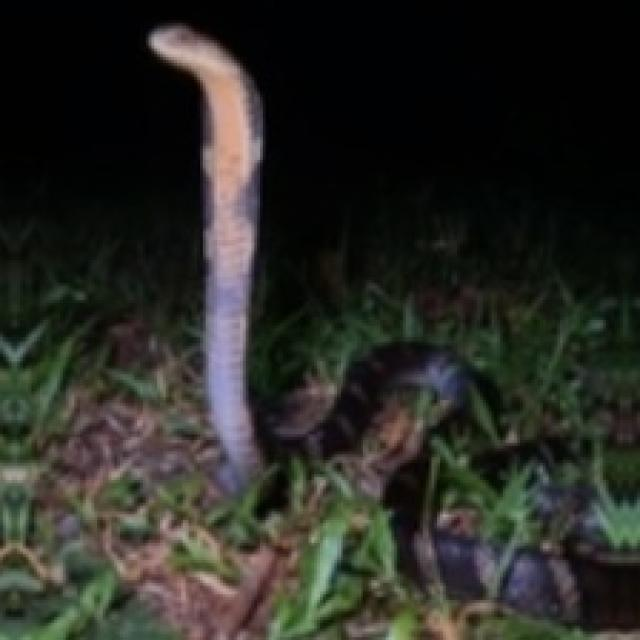king cobra: (149, 23, 260, 491), (149, 23, 260, 489)
